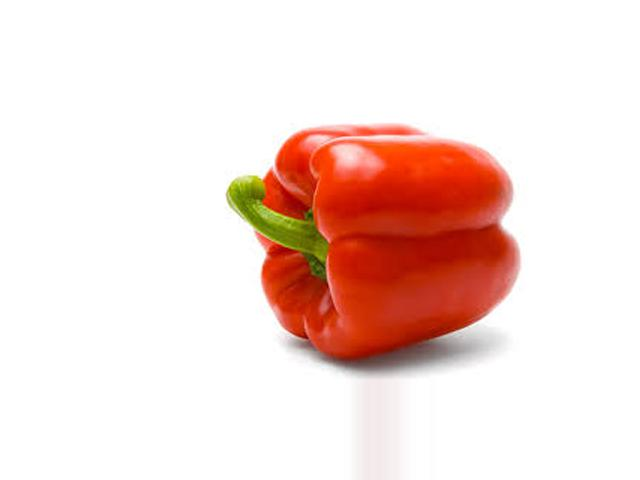bell_pepper: (208, 124, 543, 354)
